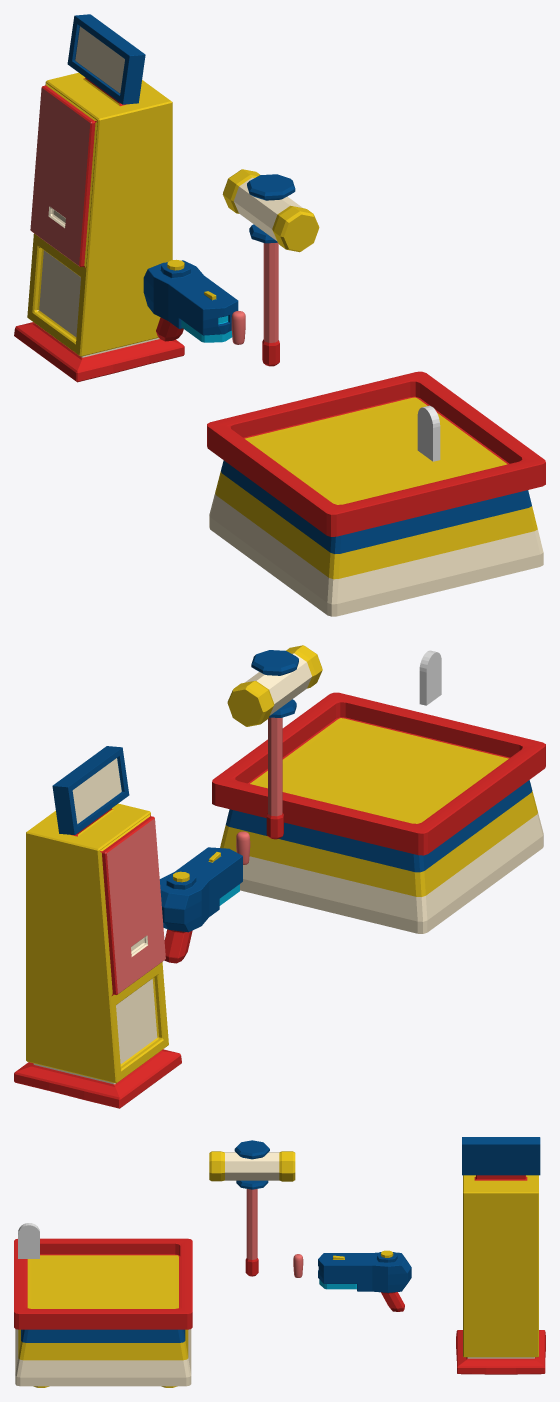
Rendered from Assets_Fleur.fbx.
The picture shows the model from 3 angles, top to bottom: view 1: azimuth 30°, elevation 25°; view 2: azimuth 150°, elevation 25°; view 3: azimuth 270°, elevation 25°; orthographic projection. The views are drawn at different scales.
Parts seen in each view (by area): view 1: playtable, ticketmachine_base, base_watergun, ticket_sign, hamer, hamer_holder, arm_wackamole; view 2: playtable, ticketmachine_base, base_watergun, ticket_sign, hamer, hamer_holder, arm_wackamole; view 3: playtable, ticketmachine_base, base_watergun, ticket_sign, hamer, hamer_holder, arm_wackamole.
Part boxes in pixels (bbox=[...]): playtable: bbox=[207, 371, 545, 616]; ticketmachine_base: bbox=[14, 72, 184, 382]; base_watergun: bbox=[143, 260, 238, 341]; ticket_sign: bbox=[67, 14, 145, 104]; hamer: bbox=[222, 169, 319, 252]; hamer_holder: bbox=[247, 174, 295, 366]; arm_wackamole: bbox=[417, 405, 440, 461]; playtable: bbox=[212, 692, 545, 933]; ticketmachine_base: bbox=[14, 803, 181, 1108]; base_watergun: bbox=[159, 847, 242, 963]; ticket_sign: bbox=[52, 746, 129, 834]; hamer: bbox=[227, 645, 322, 726]; hamer_holder: bbox=[251, 650, 298, 839]; arm_wackamole: bbox=[419, 650, 441, 705]; playtable: bbox=[14, 1238, 192, 1386]; ticketmachine_base: bbox=[456, 1175, 545, 1374]; base_watergun: bbox=[318, 1252, 411, 1311]; ticket_sign: bbox=[462, 1137, 540, 1175]; hamer: bbox=[209, 1151, 295, 1181]; hamer_holder: bbox=[234, 1140, 269, 1276]; arm_wackamole: bbox=[18, 1223, 39, 1258].
Size of the model in its own units: 200 by 271 by 596.
